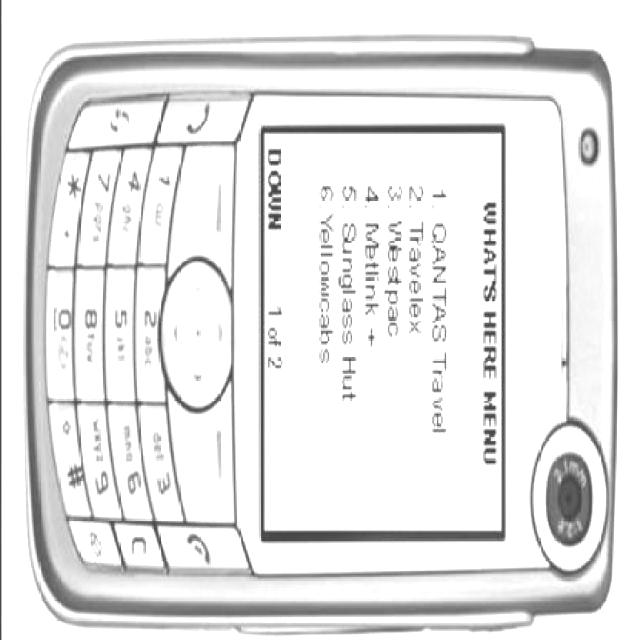fake: (18, 38, 616, 638)
